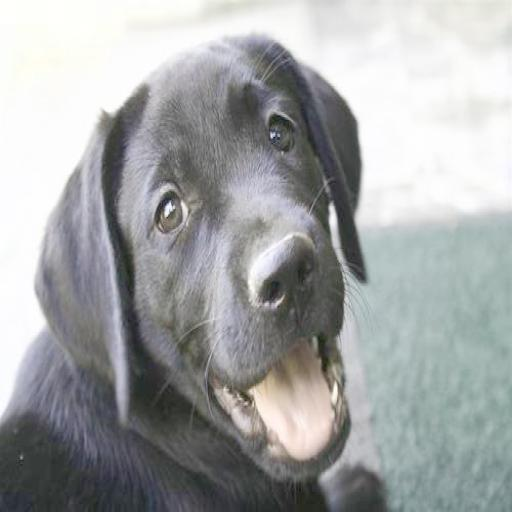dog_face: (48, 48, 393, 473)
